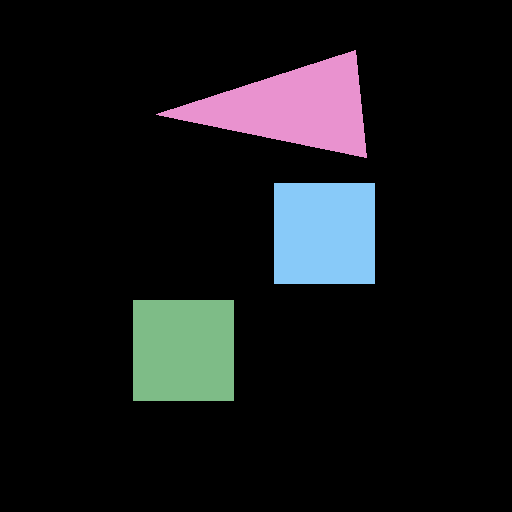square: (133, 300, 233, 400), (274, 183, 374, 283)
triangle: (156, 50, 366, 157)
